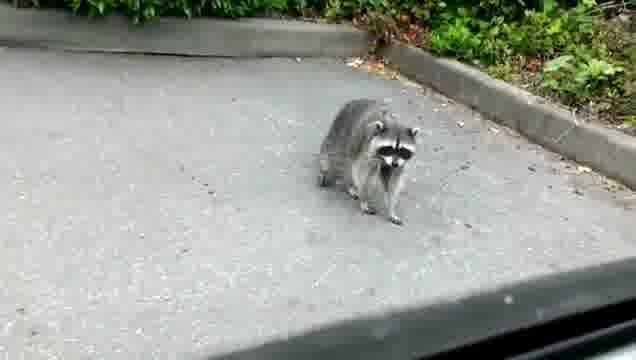raccoon: (311, 94, 424, 232)
